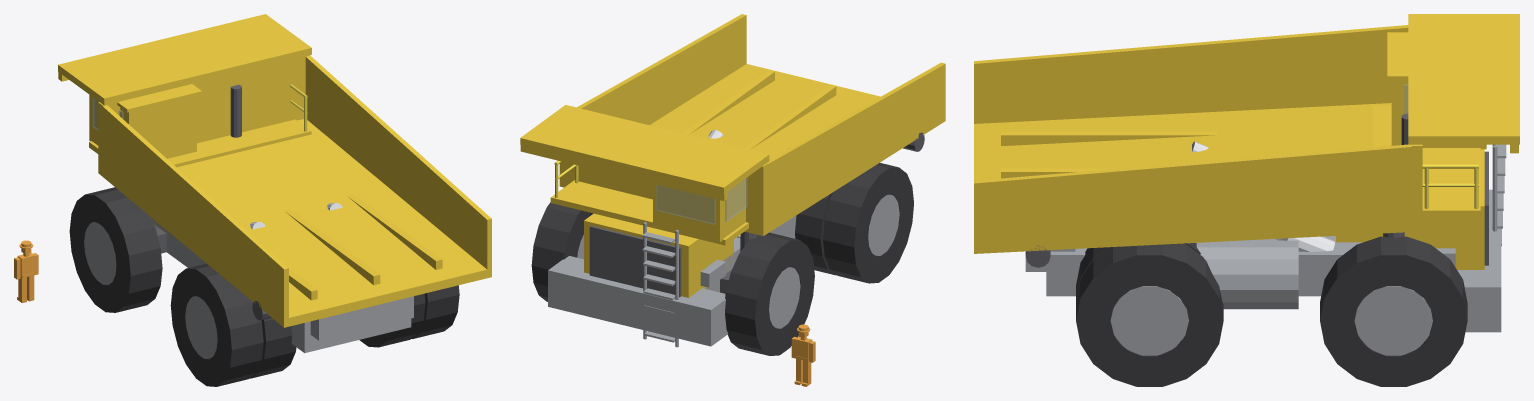
The model's file is dumper.glb.
The picture shows the model from 3 angles, left to right: view 1: azimuth 30°, elevation 25°; view 2: azimuth 150°, elevation 25°; view 3: azimuth 270°, elevation 25°; orthographic projection. The views are drawn at different scales.
Parts seen in each view (by area): view 1: dump_body, body_canopy, rear_tyres, front_tyres, cab, chassis, wheel_rims, operator_deck, scale_figure, exhaust_stacks; view 2: dump_body, body_canopy, front_tyres, chassis, rear_tyres, cab, radiator_grille, engine_hood, operator_deck, wheel_rims, cab_glass, access_ladder (+1 smaller); view 3: dump_body, body_canopy, front_tyres, rear_tyres, wheel_rims, chassis, fuel_tank, operator_deck, engine_hood, cab, access_ladder, handrails (+2 smaller).
Part boxes in pixels (x1,y1,x2,y2): dump_body: (98,55,491,327); body_canopy: (58,14,311,105); rear_tyres: (170,263,459,386); front_tyres: (69,187,162,312); cab: (89,84,202,158); chassis: (151,217,413,353); wheel_rims: (84,222,217,358); operator_deck: (89,119,311,167); scale_figure: (14,240,38,302); exhaust_stacks: (230,84,241,137); dump_body: (559,14,945,235); body_canopy: (520,105,769,200); front_tyres: (531,202,814,355); chassis: (548,216,796,346); rear_tyres: (795,163,913,283); cab: (653,135,763,242); radiator_grille: (589,225,681,297); engine_hood: (584,213,733,297); operator_deck: (550,180,748,245); wheel_rims: (577,194,899,328); cab_glass: (656,177,747,224); access_ladder: (642,222,678,347); dump_body: (974,25,1422,253); body_canopy: (1408,14,1519,153); front_tyres: (1320,236,1467,386); rear_tyres: (1076,243,1223,386); wheel_rims: (1110,286,1432,355); chassis: (1025,189,1501,332); fuel_tank: (1196,240,1298,309); operator_deck: (1373,106,1480,221); engine_hood: (1336,149,1484,269); cab: (1387,32,1486,149); access_ladder: (1492,144,1506,246); handrails: (1422,164,1478,208).
Size of the model in its own units: 9.6 by 6.56 by 13.2.
